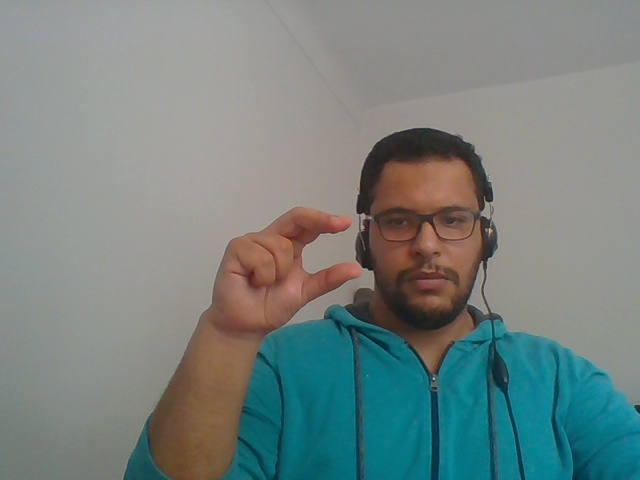no: (176, 182, 365, 381)
